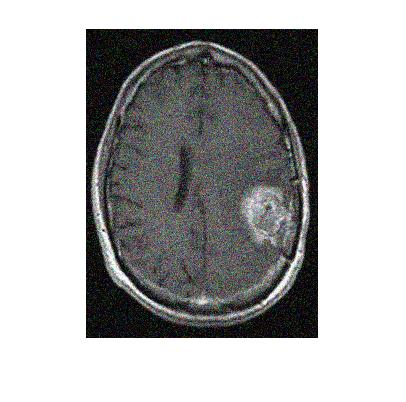Brain_Cancer: (238, 187, 296, 251)
